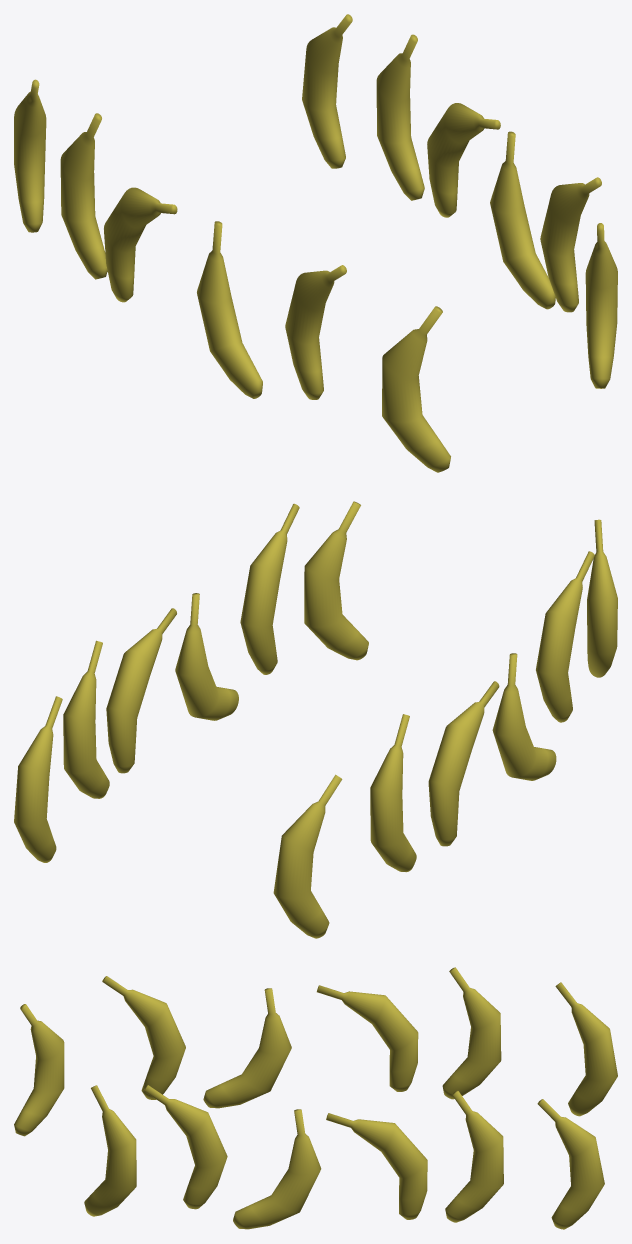
Rendered from bananas.fbx.
The picture shows the model from 3 angles, top to bottom: view 1: azimuth 30°, elevation 25°; view 2: azimuth 150°, elevation 25°; view 3: azimuth 270°, elevation 25°; orthographic projection. The views are drawn at different scales.
Visible parts, largest first — view 1: banana.011, banana.009, banana.003, banana.001, banana.007, banana, banana.010, banana.004, banana.005, banana.006, banana.008, banana.002; view 2: banana.005, banana.006, banana.008, banana.002, banana.010, banana.004, banana, banana.001, banana.007, banana.009, banana.003, banana.011; view 3: banana.003, banana.009, banana.008, banana.002, banana.001, banana.004, banana, banana.007, banana.010, banana.006, banana.011, banana.005.
Part boxes in pixels (x1,y1,x2,y2): banana.011: (382, 306, 450, 472); banana.009: (197, 221, 262, 398); banana.003: (490, 131, 555, 309); banana.001: (376, 34, 424, 200); banana.007: (60, 113, 107, 279); banana: (302, 14, 352, 168); banana.010: (285, 265, 346, 399); banana.004: (540, 177, 601, 312); banana.005: (585, 223, 617, 388); banana.006: (14, 79, 46, 232); banana.008: (104, 187, 177, 302); banana.002: (427, 103, 500, 217); banana.005: (304, 501, 368, 660); banana.006: (273, 774, 342, 938); banana.008: (428, 681, 499, 846); banana.002: (106, 608, 176, 773); banana.010: (536, 551, 594, 722); banana.004: (240, 503, 299, 674); banana: (14, 696, 62, 862); banana.001: (63, 640, 109, 798); banana.007: (370, 714, 416, 872); banana.009: (492, 653, 556, 780); banana.003: (175, 593, 238, 720); banana.011: (587, 519, 617, 677); banana.003: (233, 1109, 321, 1229); banana.009: (203, 988, 291, 1108); banana.008: (316, 985, 418, 1091); banana.002: (326, 1113, 427, 1219); banana.001: (445, 1090, 503, 1222); banana.004: (143, 1085, 227, 1209); banana: (537, 1099, 604, 1229); banana.007: (442, 967, 501, 1099); banana.010: (102, 976, 185, 1099); banana.006: (555, 982, 617, 1116); banana.011: (14, 1004, 64, 1136); banana.005: (84, 1085, 136, 1216).
Size of the model in its own units: 3.13 by 1.52 by 5.76.
